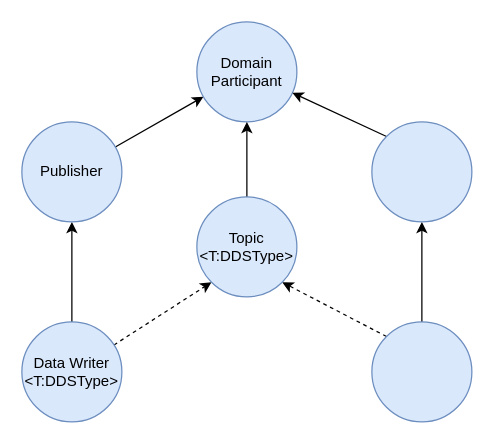
Some shapes in this 494 by 444 pixel diagram are drawn without their labels. The shapes that lost their labels are listed below. From the top down, each one's box as (x1, y1, x2, y2) in pixels, then its label:
(371, 121, 472, 222): Subscriber
(371, 321, 472, 422): Data Reader <T:DDSType>
